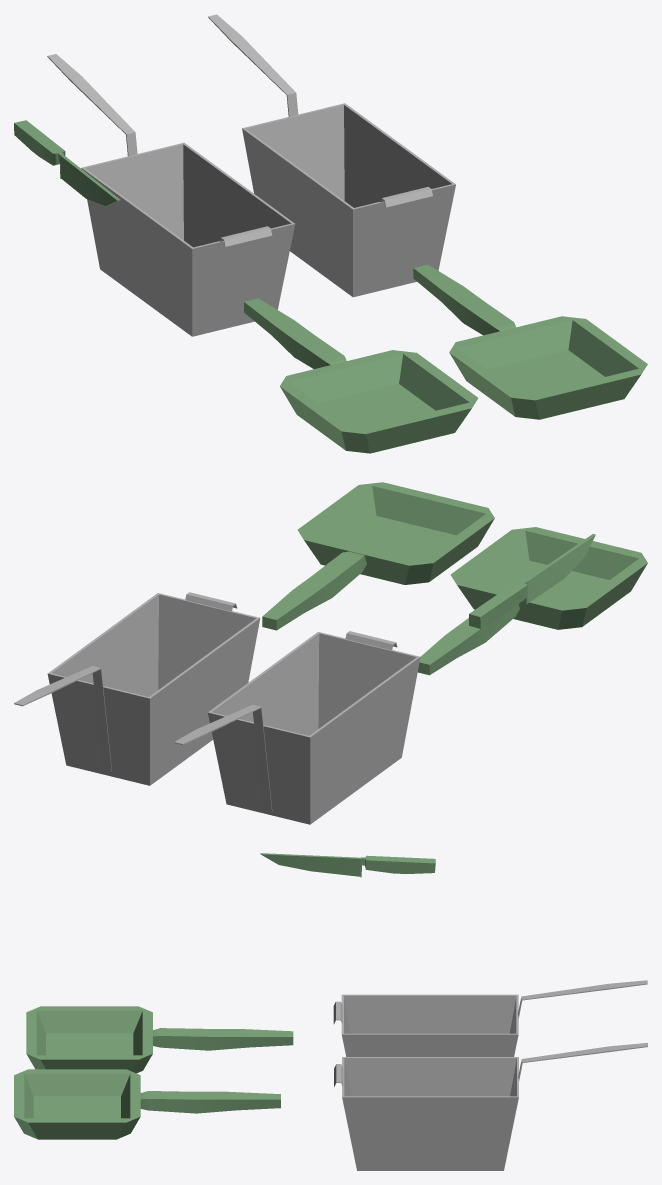
3 renders of one model, top to bottom at view 1: azimuth 30°, elevation 25°; view 2: azimuth 150°, elevation 25°; view 3: azimuth 270°, elevation 25°, orthographic. The views are drawn at different scales.
Visible parts, largest first — view 1: basket1, basket, Pan2, Pan1, Knife1; view 2: basket1, basket, Pan2, Pan1, Knife1; view 3: basket, basket1, Pan2, Pan1, Knife1.
Boxes of the visible parts, bbox=[...] form: basket1: bbox=[47, 54, 295, 336]; basket: bbox=[208, 14, 455, 297]; Pan2: bbox=[413, 264, 647, 419]; Pan1: bbox=[244, 298, 478, 453]; Knife1: bbox=[14, 120, 120, 205]; basket1: bbox=[174, 631, 420, 824]; basket: bbox=[14, 592, 260, 785]; Pan2: bbox=[262, 482, 494, 630]; Pan1: bbox=[418, 527, 647, 675]; Knife1: bbox=[469, 534, 595, 628]; basket: bbox=[334, 1043, 647, 1170]; basket1: bbox=[333, 980, 647, 1056]; Pan2: bbox=[14, 1069, 280, 1139]; Pan1: bbox=[26, 1006, 293, 1073]; Knife1: bbox=[260, 853, 435, 877].
Bounding box in the file's own units: 1.15 × 0.6019 × 2.04.
